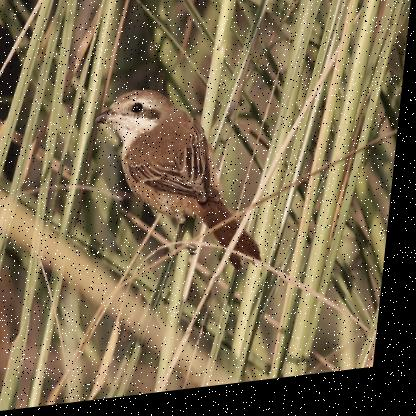Burung: (78, 81, 285, 298)
